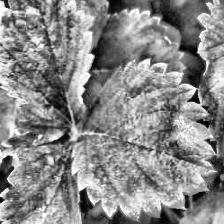Powdery Mildew Leaf: (69, 57, 218, 222)
